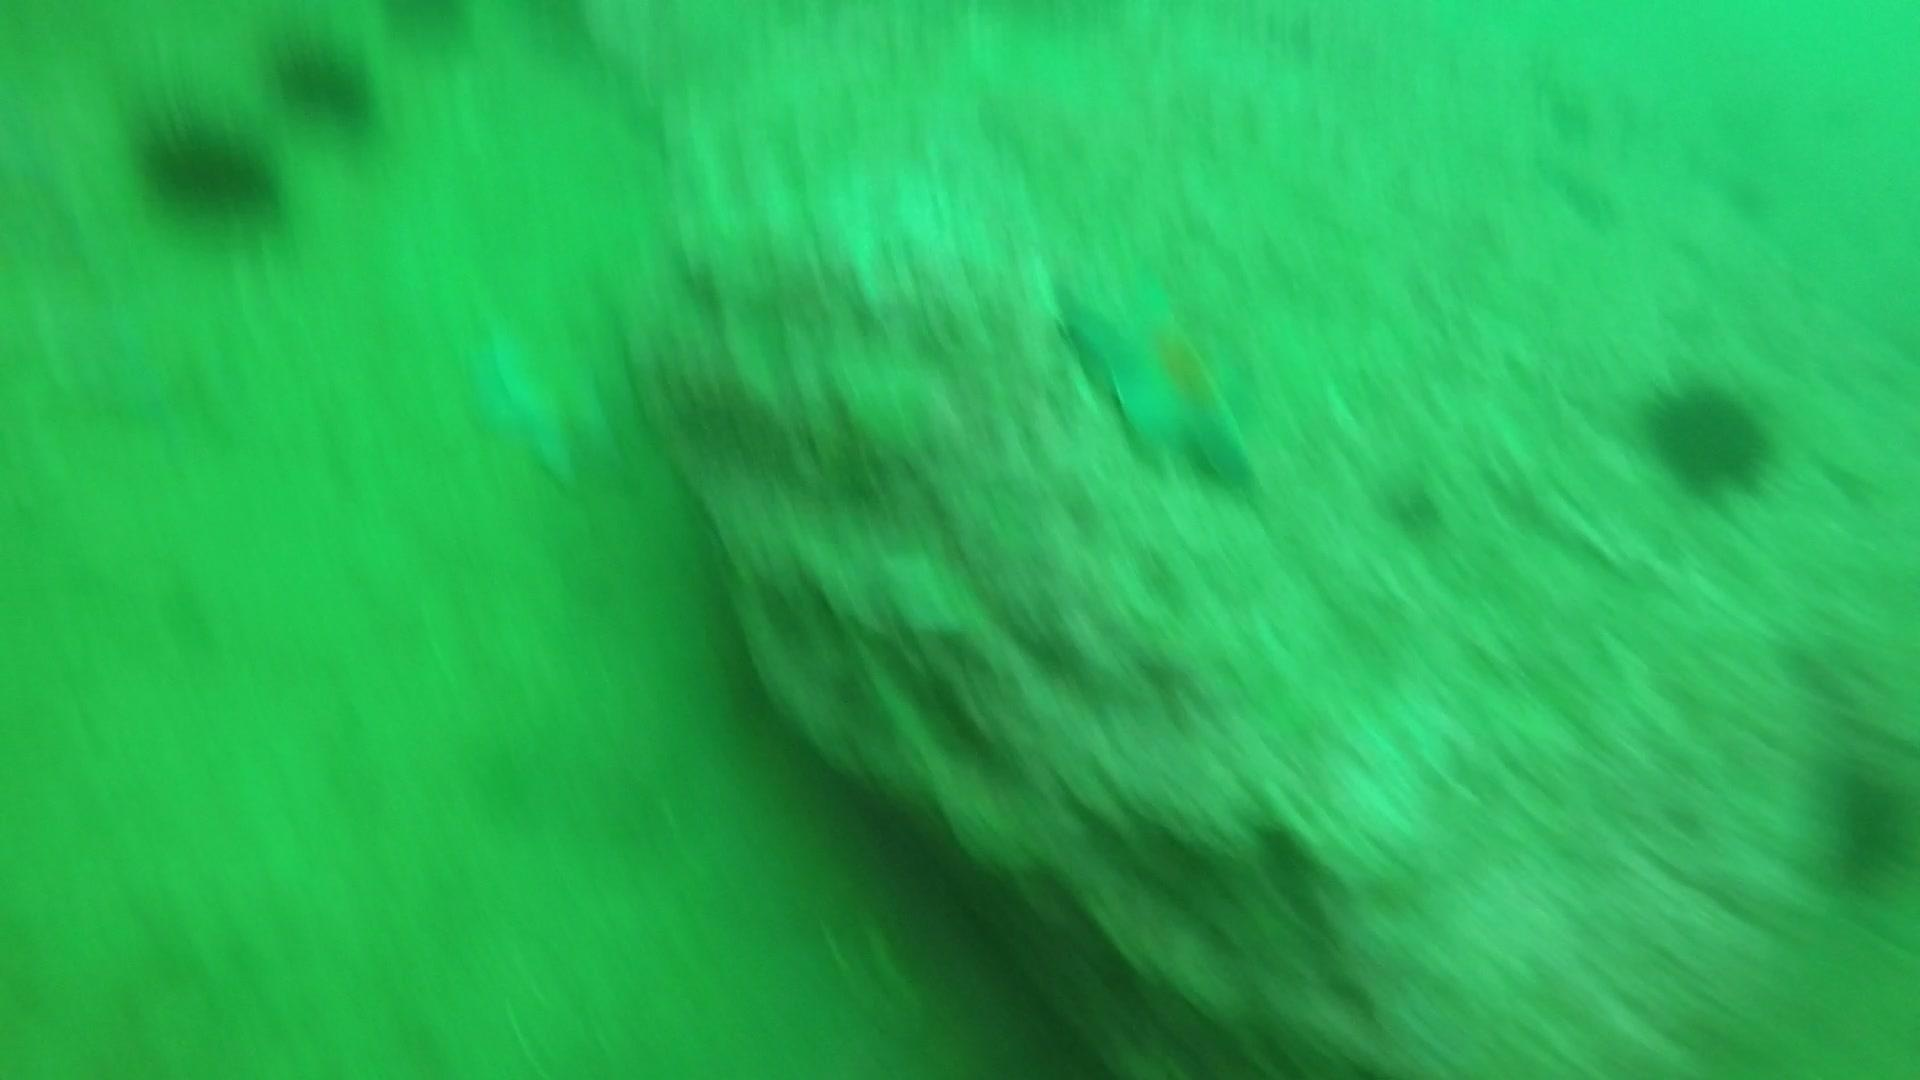echinus: (129, 102, 290, 228), (1635, 371, 1780, 500), (1805, 754, 1917, 897), (264, 32, 384, 135), (372, 0, 480, 55)
starfish: (1054, 266, 1269, 491), (460, 309, 638, 493)
